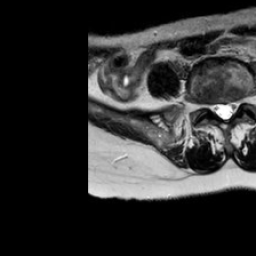CCS_stenosis: (221, 92, 229, 129)
LFS_stenosis: (236, 87, 245, 113)
LLS_normal: (229, 91, 237, 121)
RFS_stenosis: (203, 92, 212, 116)
RLS_normal: (212, 93, 221, 122)
